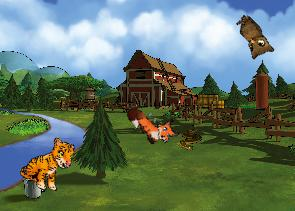fox: (123, 92, 183, 154)
owl: (225, 12, 278, 65)
tiger: (17, 130, 78, 196)
